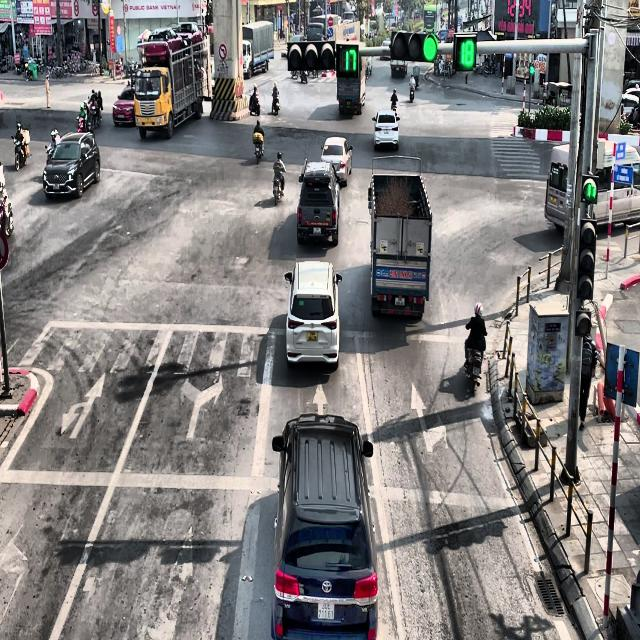lisence_plate: (311, 592, 340, 626), (316, 598, 335, 621), (305, 329, 319, 342), (395, 297, 405, 306), (313, 225, 322, 234)
